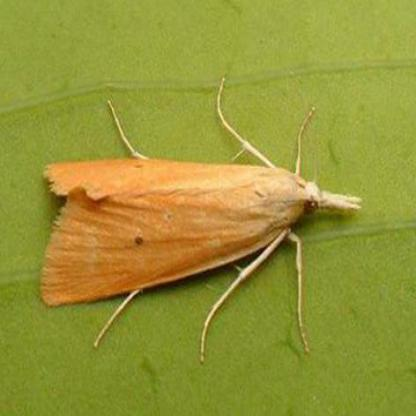stem-borer: (36, 129, 366, 324)
